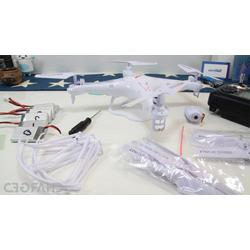drone: (35, 59, 222, 123)
